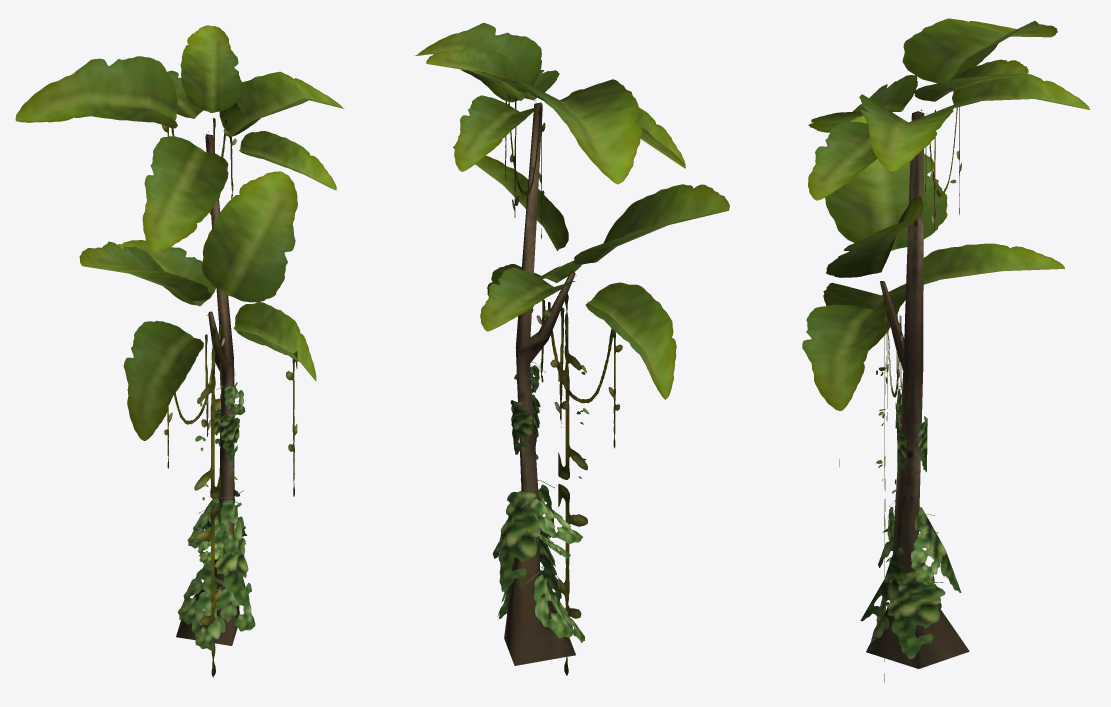
The model's file is S_Tree_Green038.FBX.
The picture shows the model from 3 angles, left to right: view 1: azimuth 30°, elevation 25°; view 2: azimuth 150°, elevation 25°; view 3: azimuth 270°, elevation 25°; orthographic projection. The views are drawn at different scales.
Parts seen in each view (by area): view 1: S_Tree_Green038; view 2: S_Tree_Green038; view 3: S_Tree_Green038.
Boxes of the visible parts, box(x1,y1,x2,y2) form: S_Tree_Green038: box(15, 25, 344, 677); S_Tree_Green038: box(414, 23, 729, 675); S_Tree_Green038: box(802, 18, 1089, 682).
Bounding box in the file's own units: 118 × 245 × 107.
